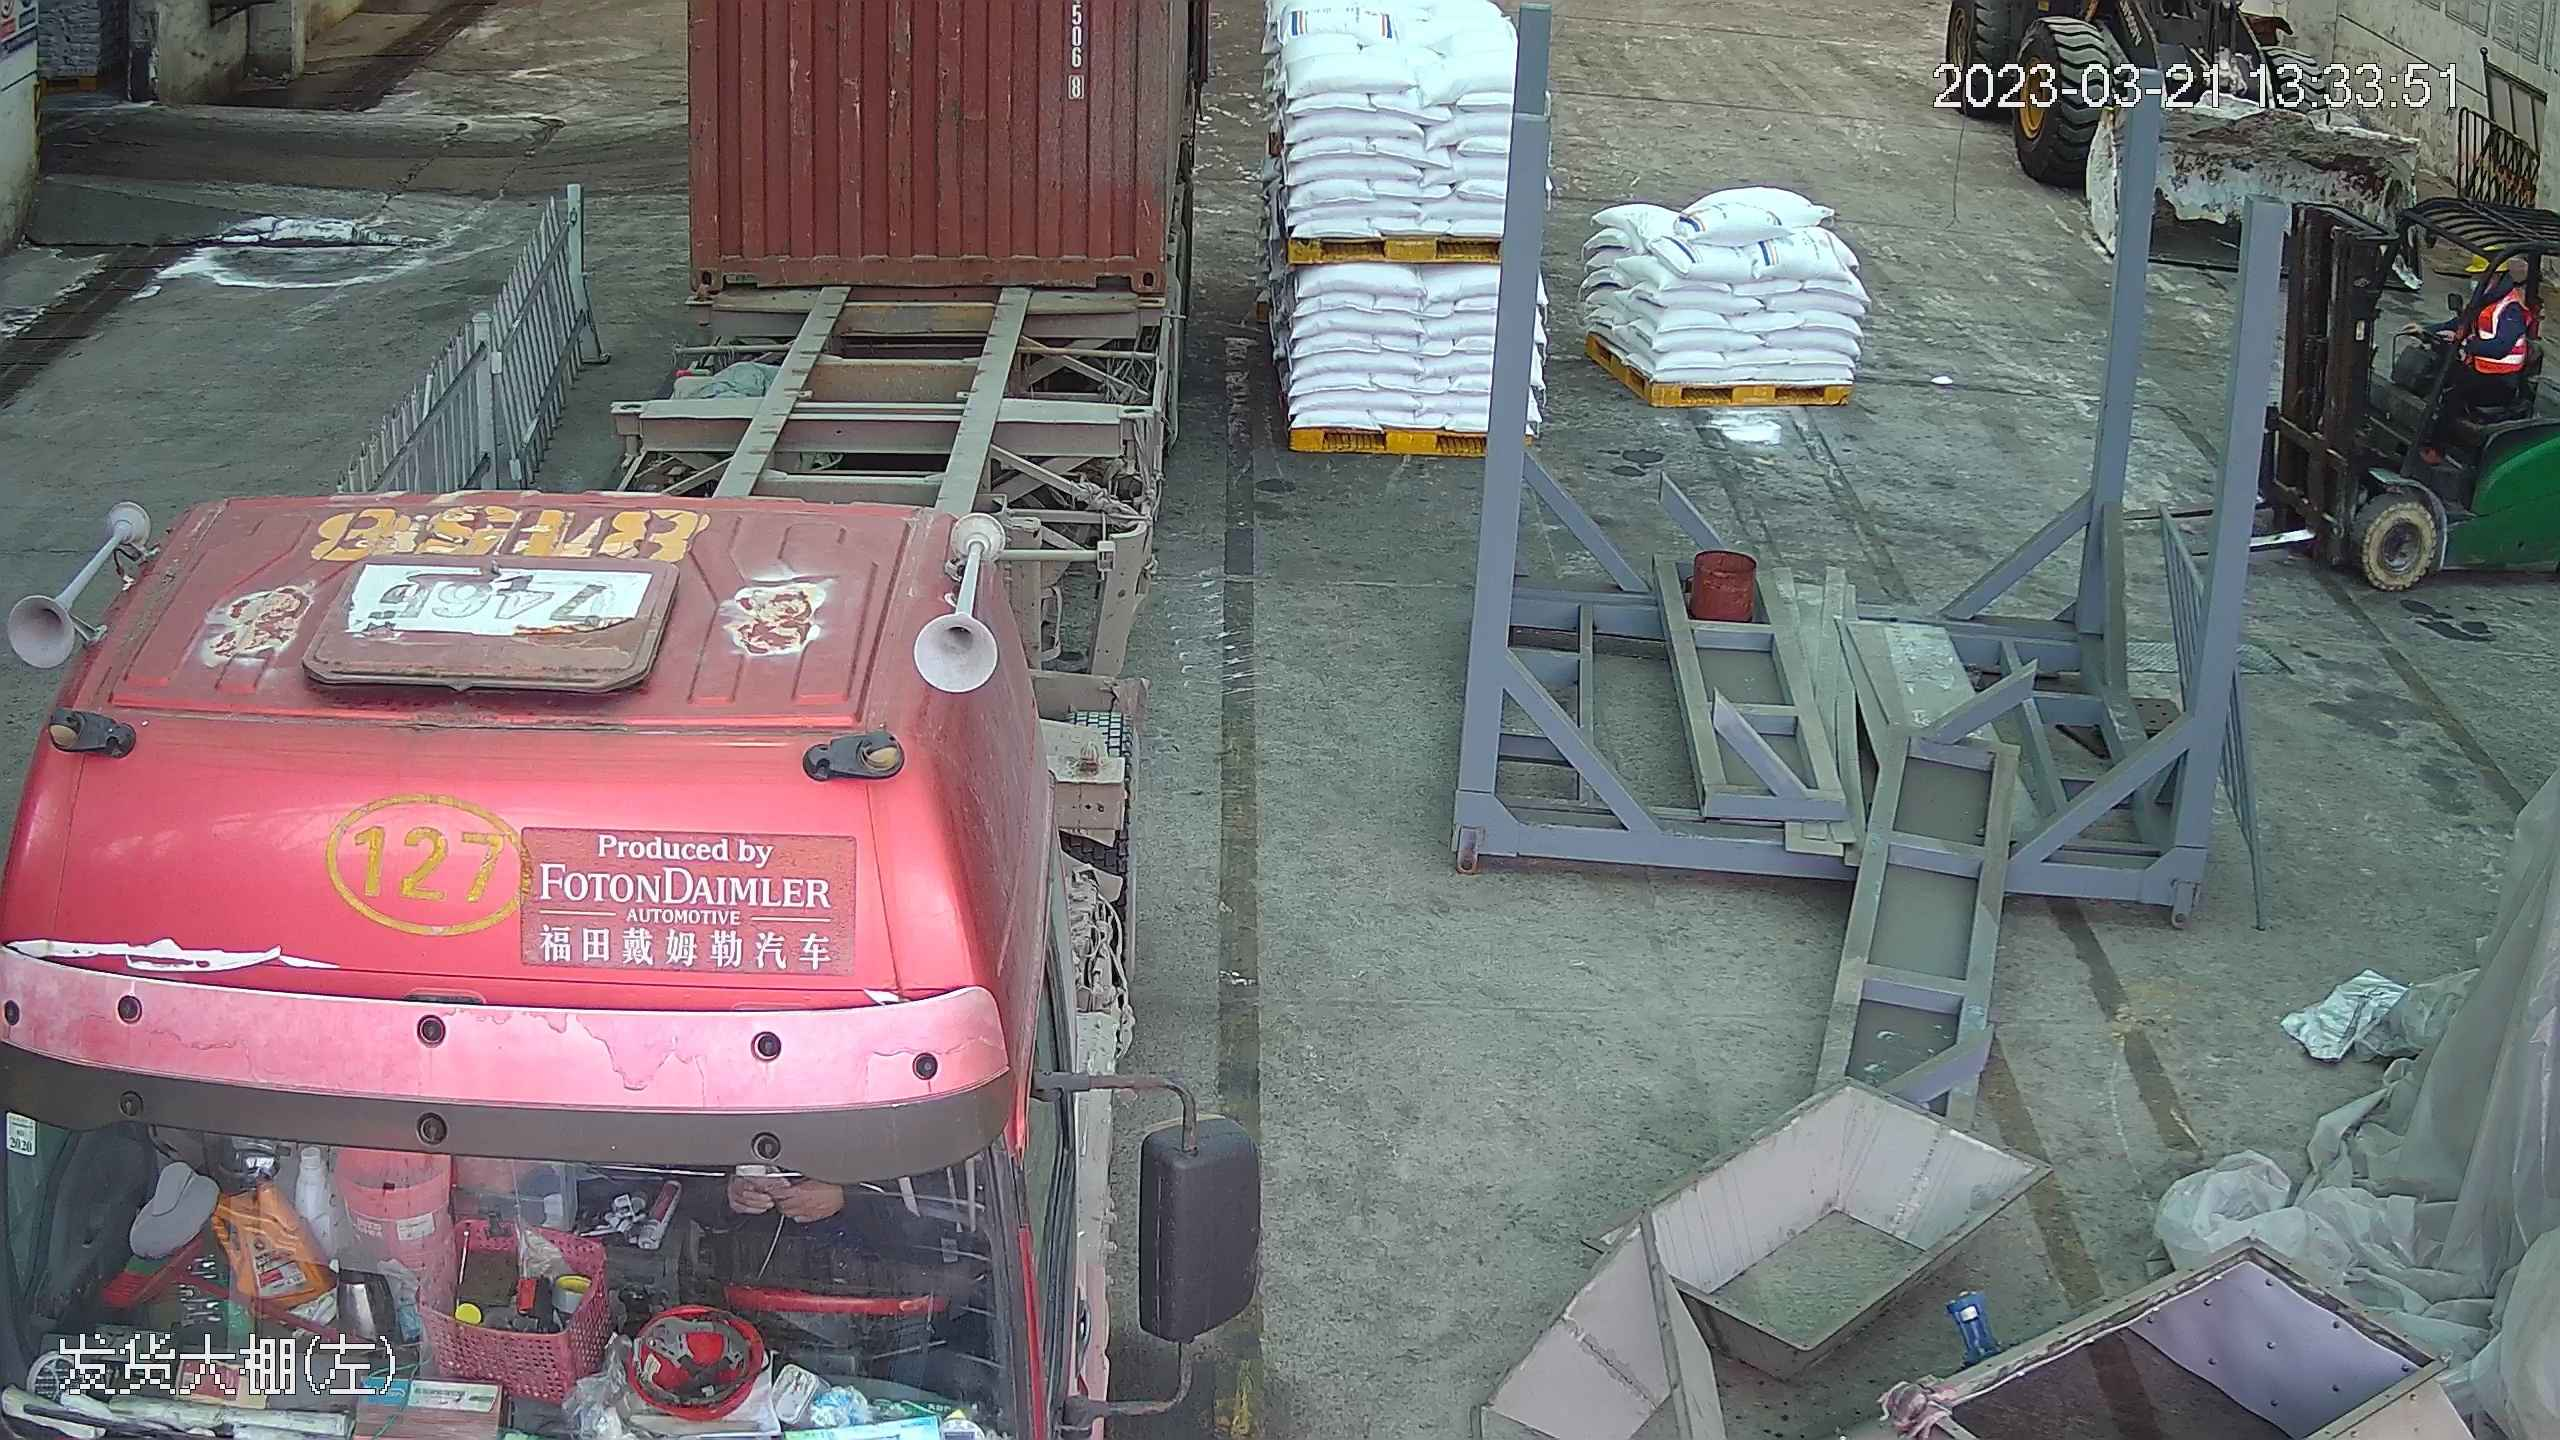head: (2464, 253, 2531, 327)
helmet: (2472, 251, 2506, 274)
people: (2415, 250, 2537, 437)
truck: (0, 0, 1174, 1440)
